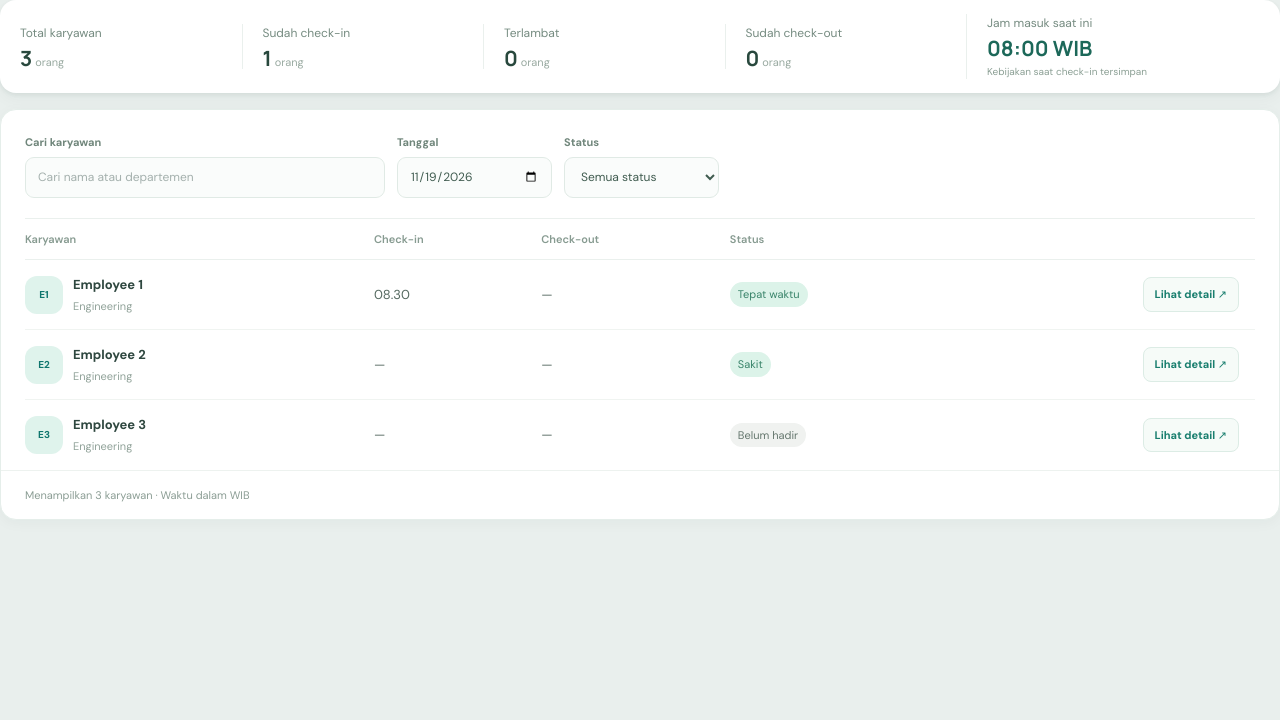
Test: attendance backend view › uses stored policy, approved requests and honest missing evidence
Step 1. Click the button with aria-label "Lihat detail Employee 1" → click(1191, 295), box [1143,277,1239,312]
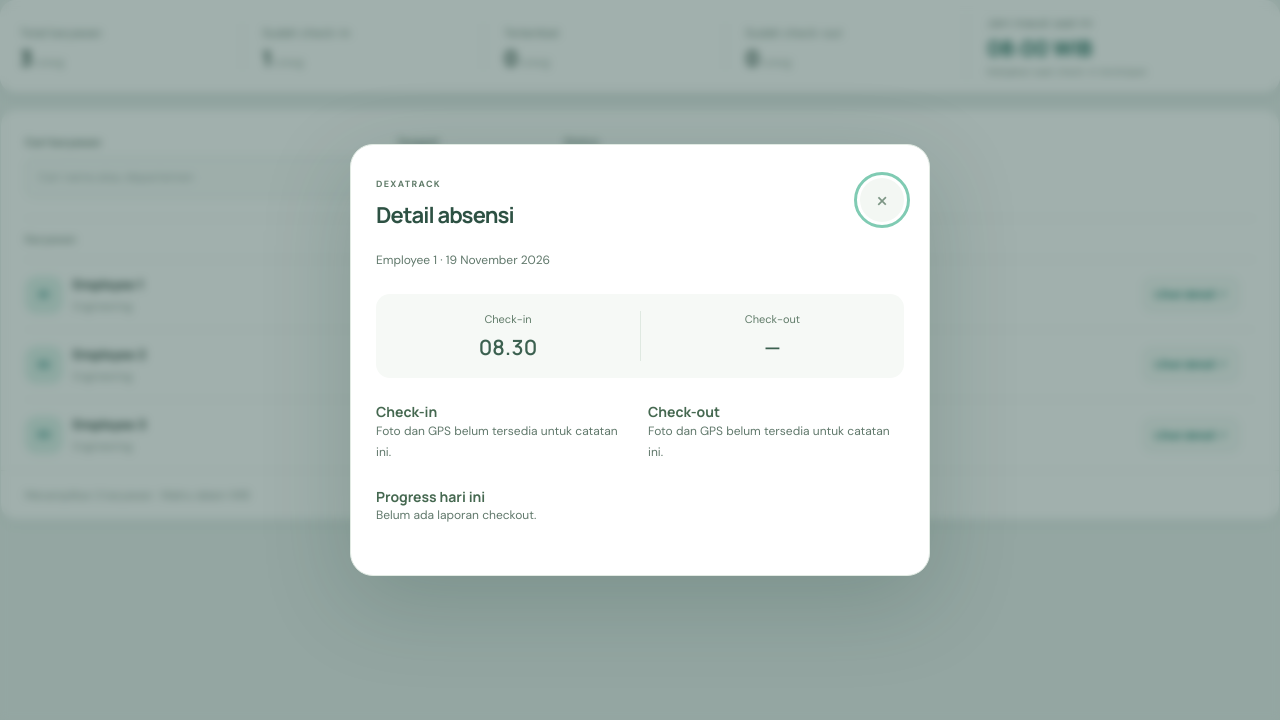
expect the text "Foto dan GPS belum tersedia untuk catatan ini." is shown 2 times: met, box [376,422,632,462]; [648,422,904,462]
Step 2. Click the button named "Tutup" → click(882, 200), box [860,178,904,222]
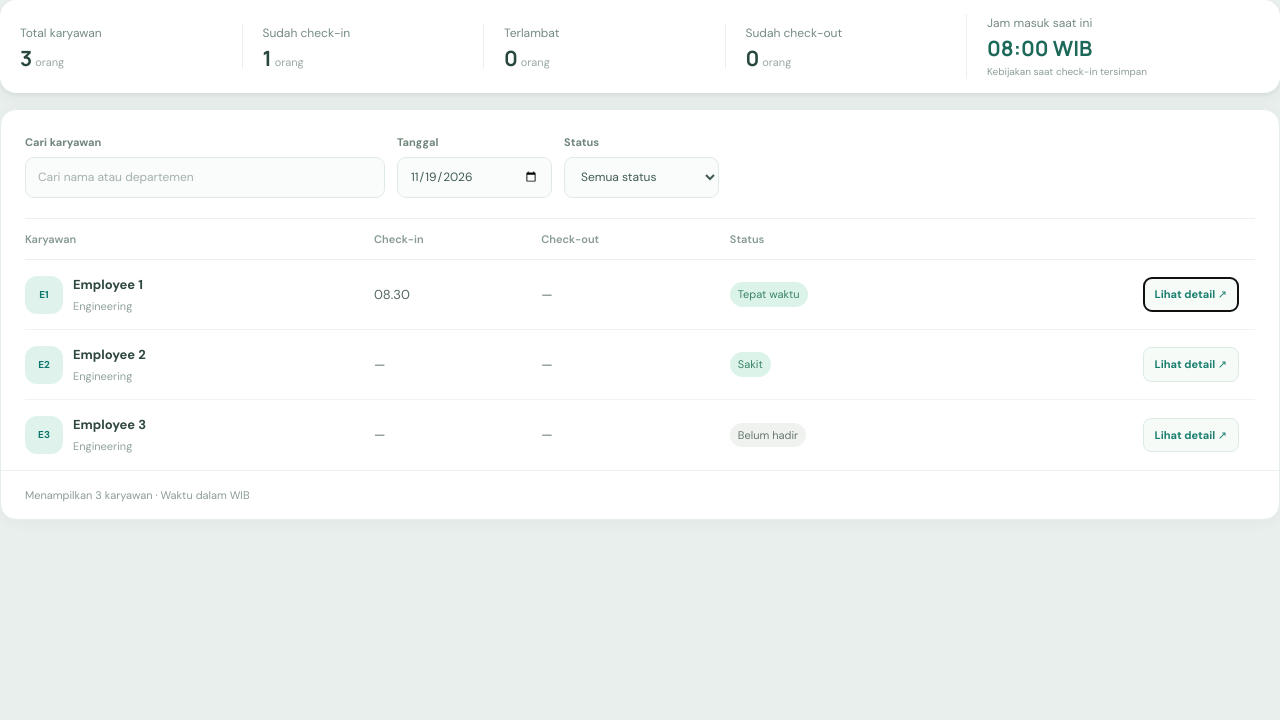
Step 3. Select "Sakit" in the dropdown labelled "Status" → (642, 177), box [564,156,719,198]
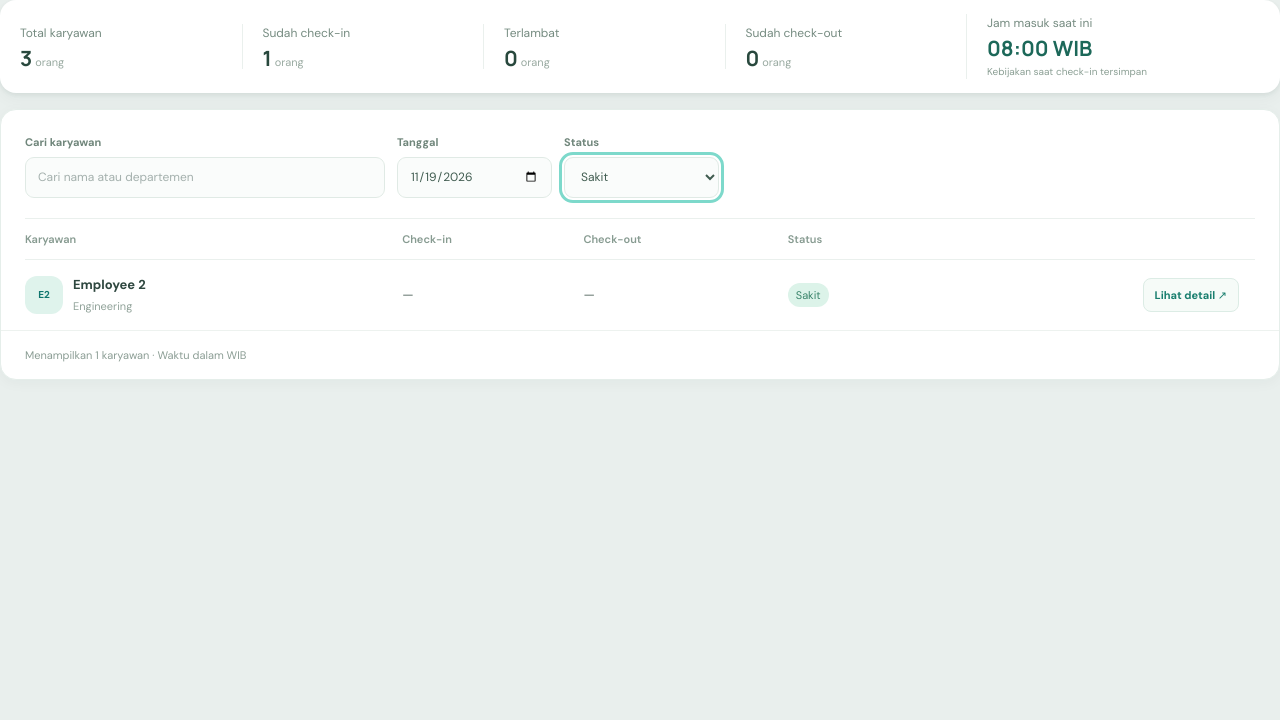
expect the text "Employee 2" is shown: met, box [73,275,146,294]
expect the text "Employee 1" is gone: met
Step 4. Select "Terlambat" in the dropdown labelled "Status" → (642, 177), box [564,156,719,198]
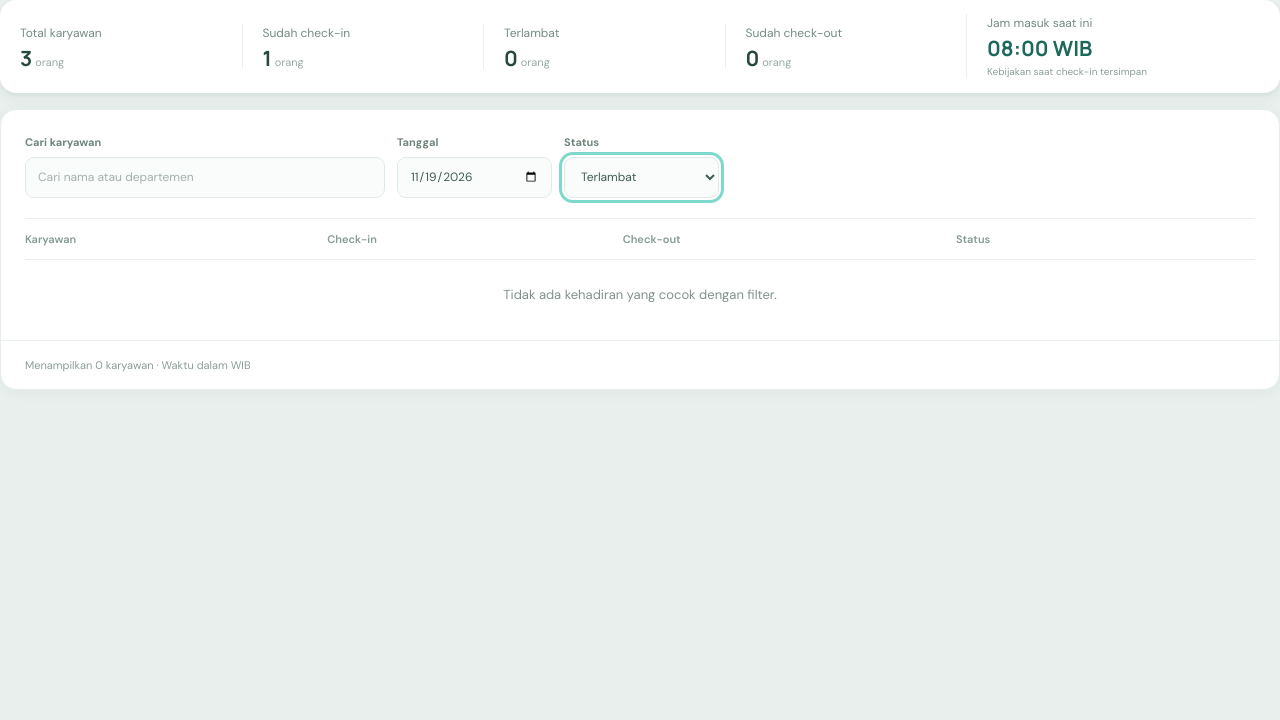
expect the text "Tidak ada kehadiran yang cocok dengan filter." is shown: met, box [503,286,777,303]
